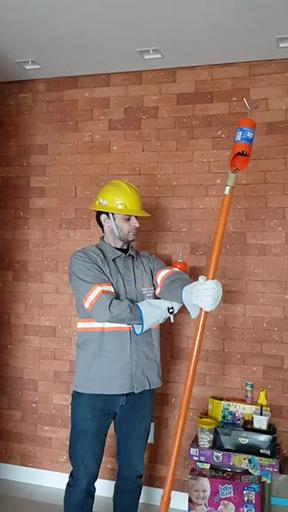Detector_Tensao_Contato: (228, 98, 257, 174)
Vara_Manobra: (159, 171, 233, 511)
